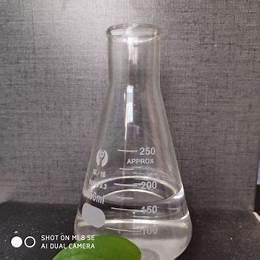Titrarion: (60, 18, 199, 255)
